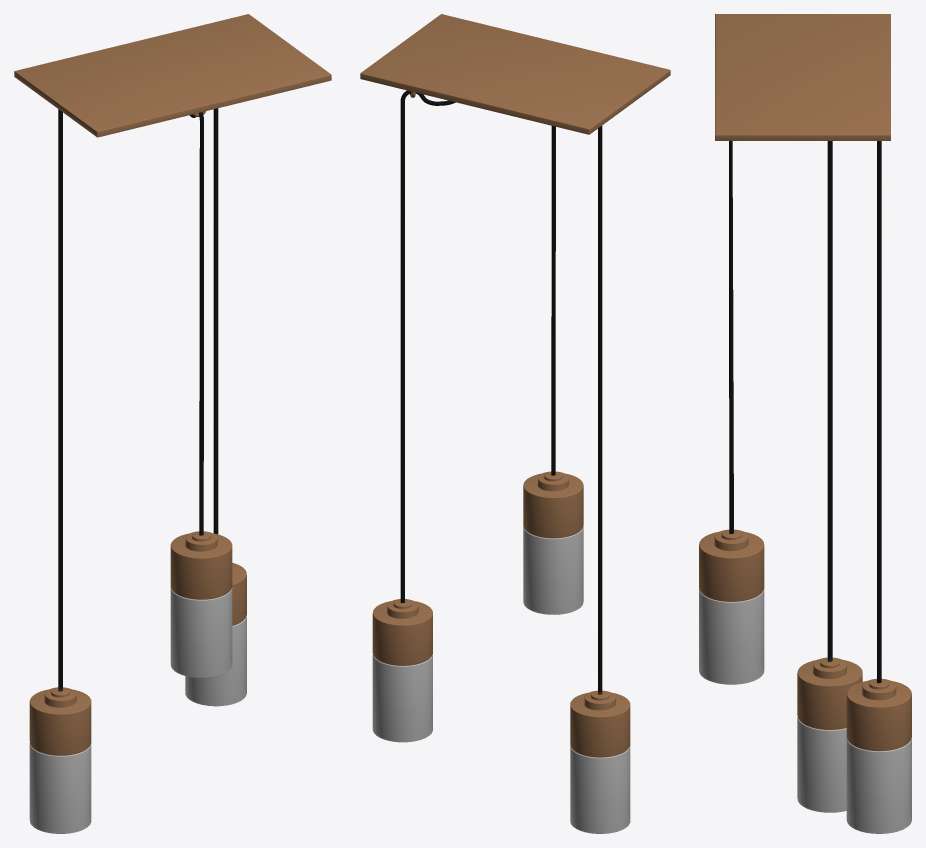
3 views of the same model, side by side, from view 1: azimuth 30°, elevation 25°; view 2: azimuth 150°, elevation 25°; view 3: azimuth 270°, elevation 25° (orthographic). The views are drawn at different scales.
Parts seen in each view (by area): view 1: modern_chandelier; view 2: modern_chandelier; view 3: modern_chandelier.
Part boxes in pixels (x1,y1,x2,y2): modern_chandelier: (14, 14, 331, 833); modern_chandelier: (360, 14, 670, 833); modern_chandelier: (699, 14, 911, 833).
Size of the model in its own units: 0.6955 by 2 by 0.4974.
Materials: 1 (1 with a texture image).
